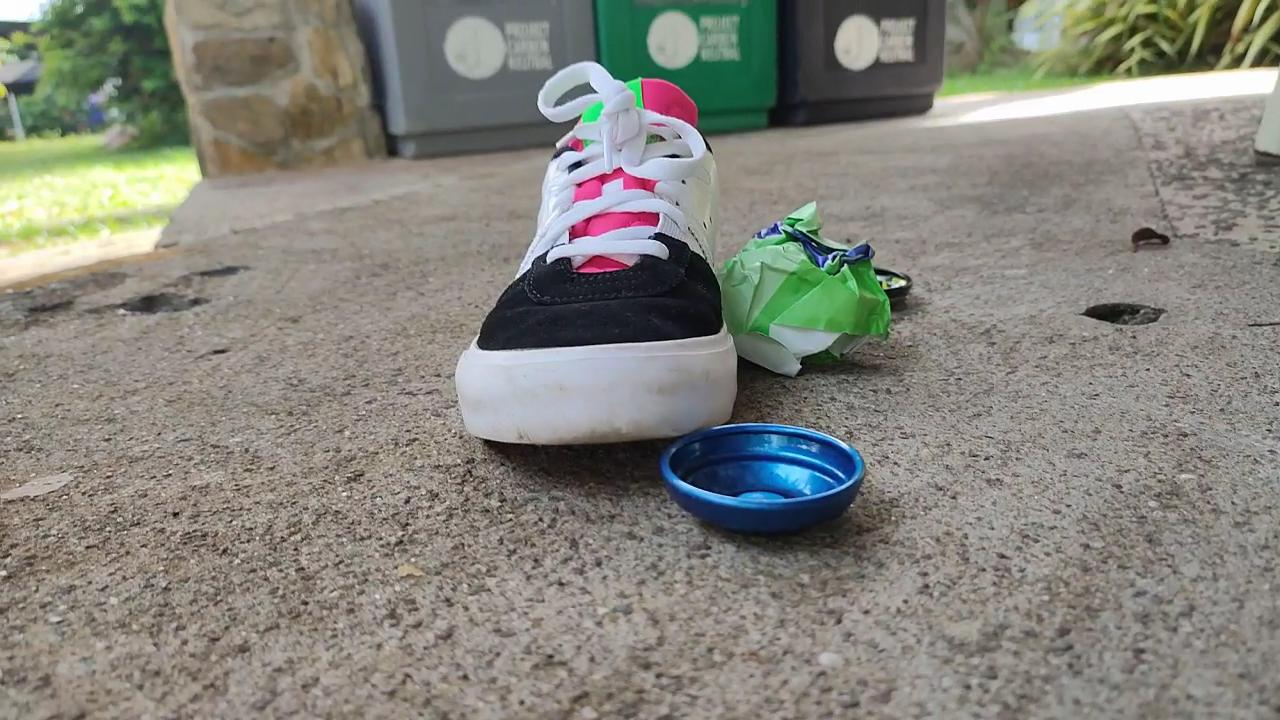Paper: (717, 186, 898, 392)
